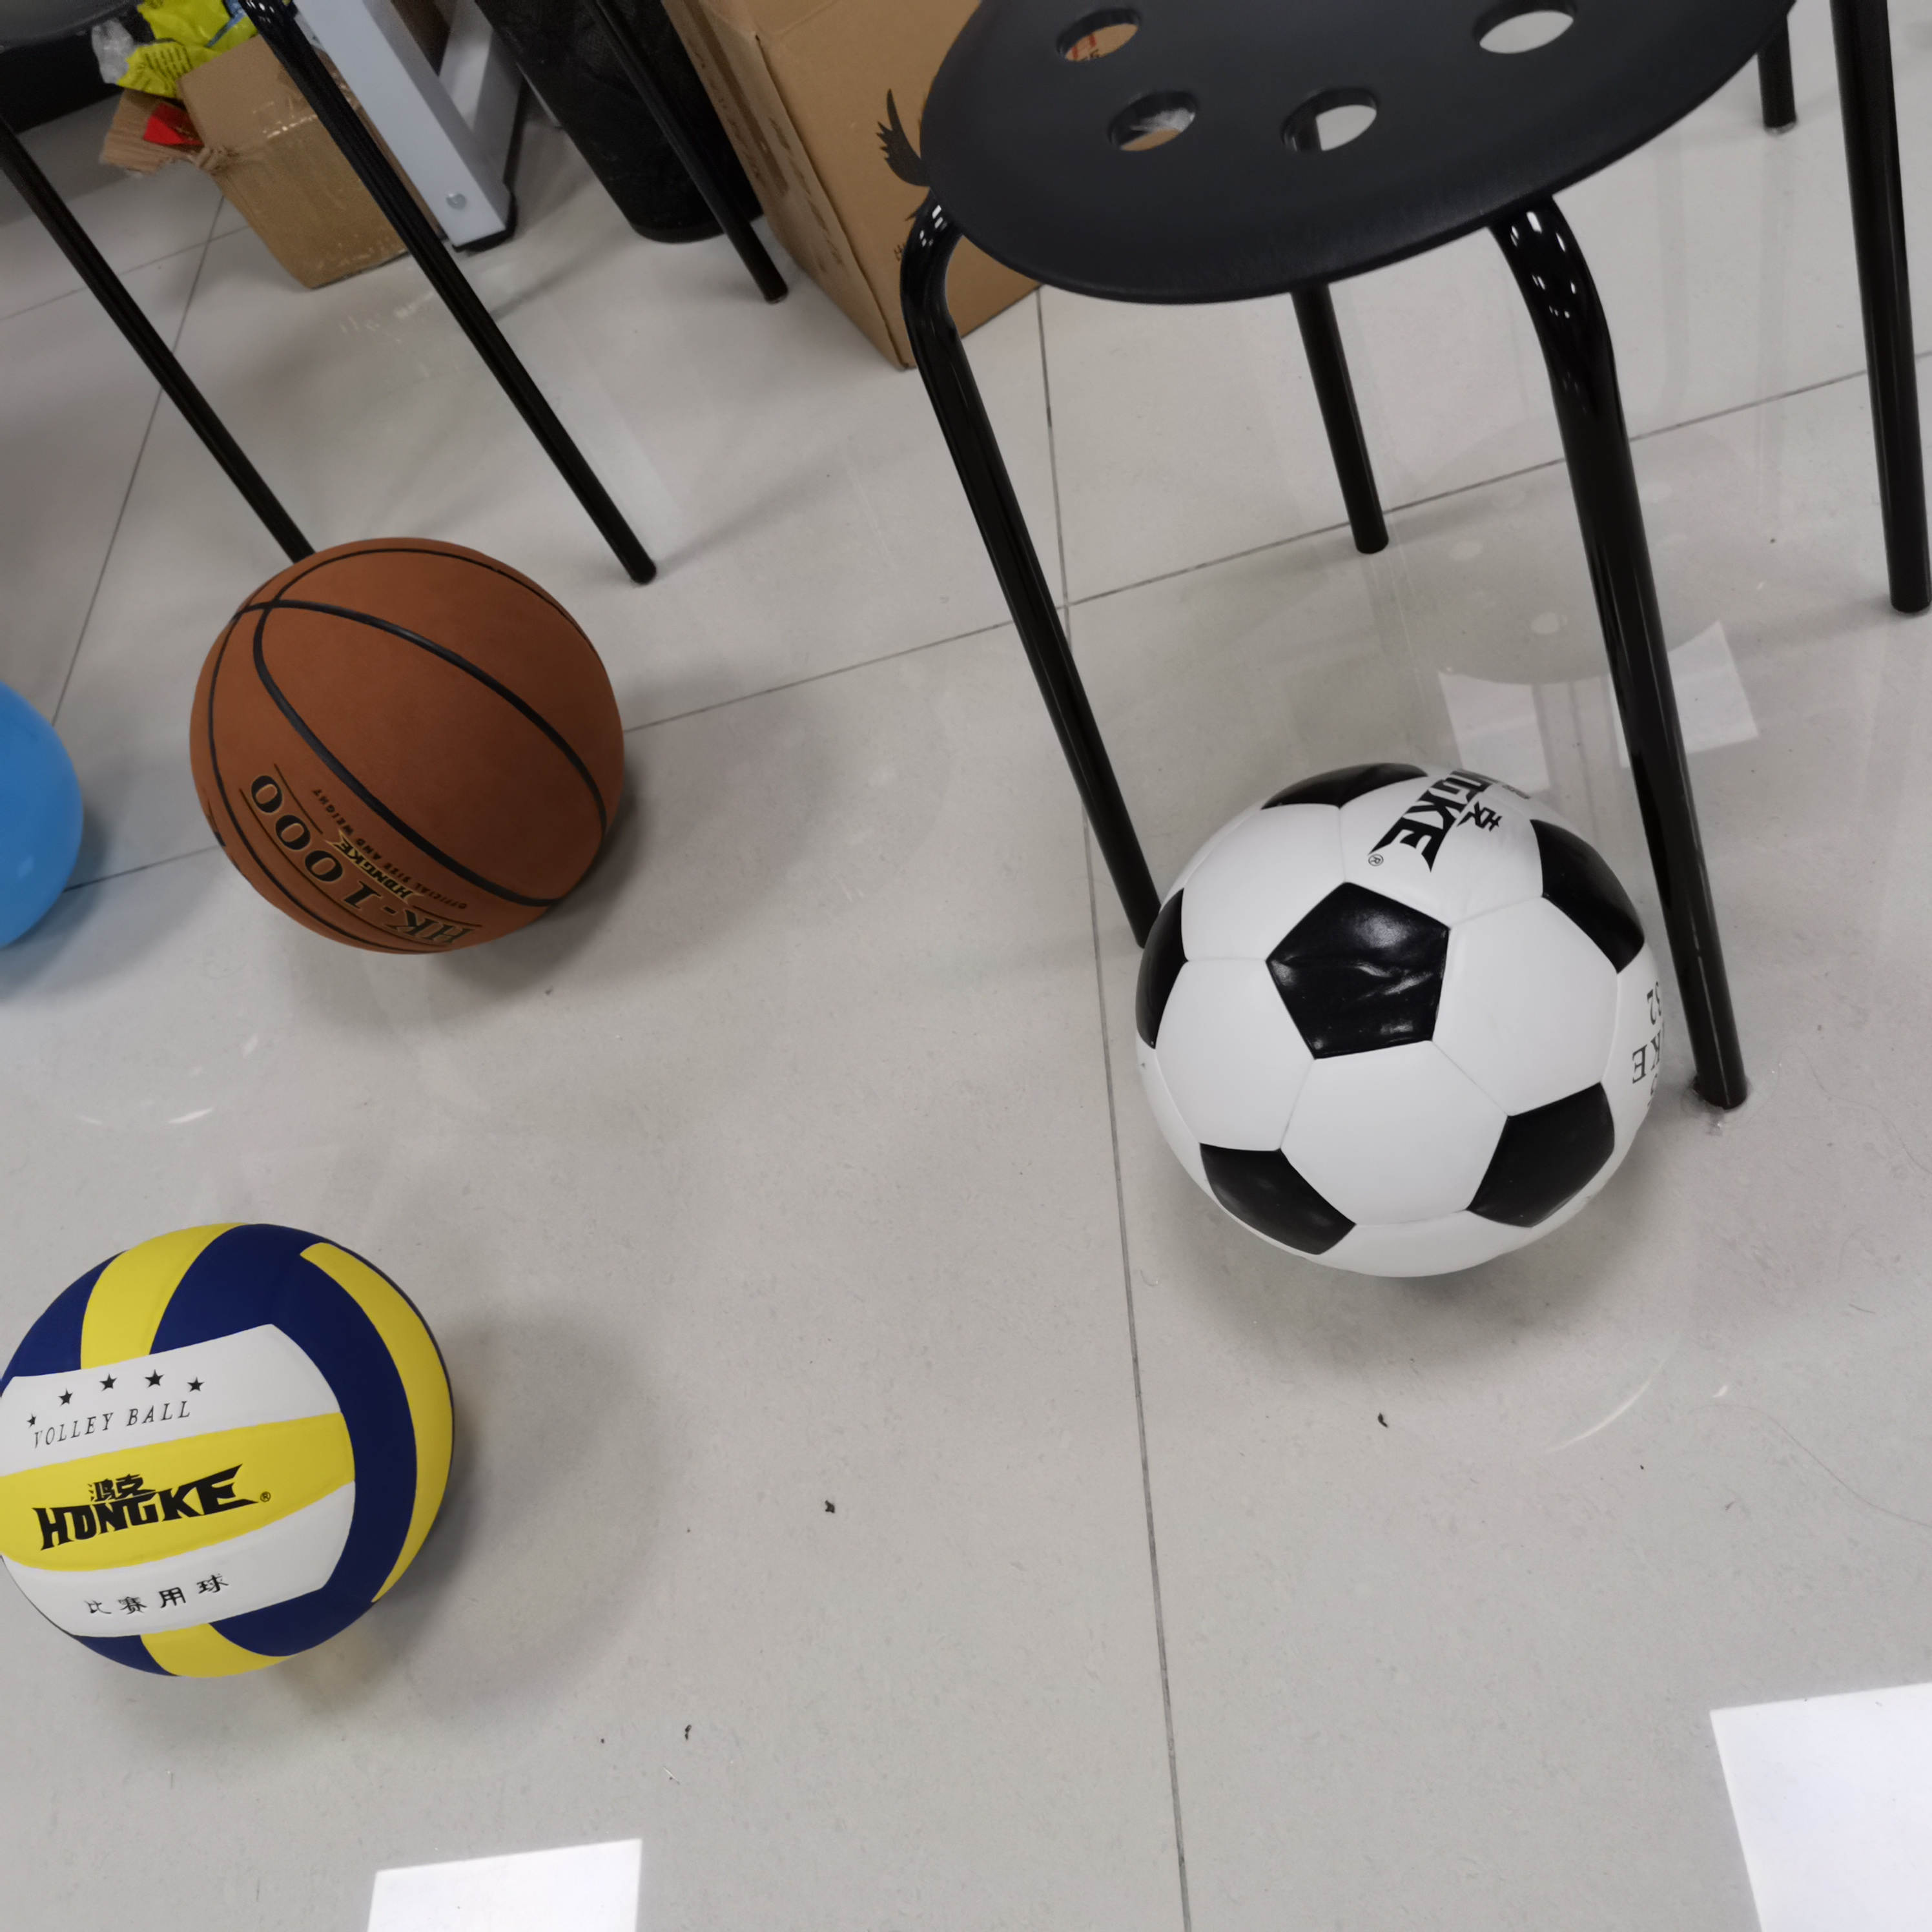basketball: (186, 545, 628, 961)
football: (1145, 761, 1667, 1281)
volleyball: (7, 1237, 456, 1690)
